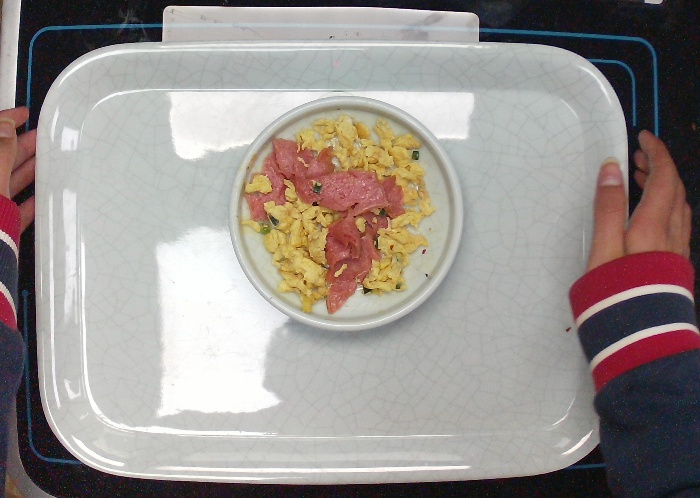JYsf-Xiao_Yuan_Pan: (227, 91, 467, 338)
